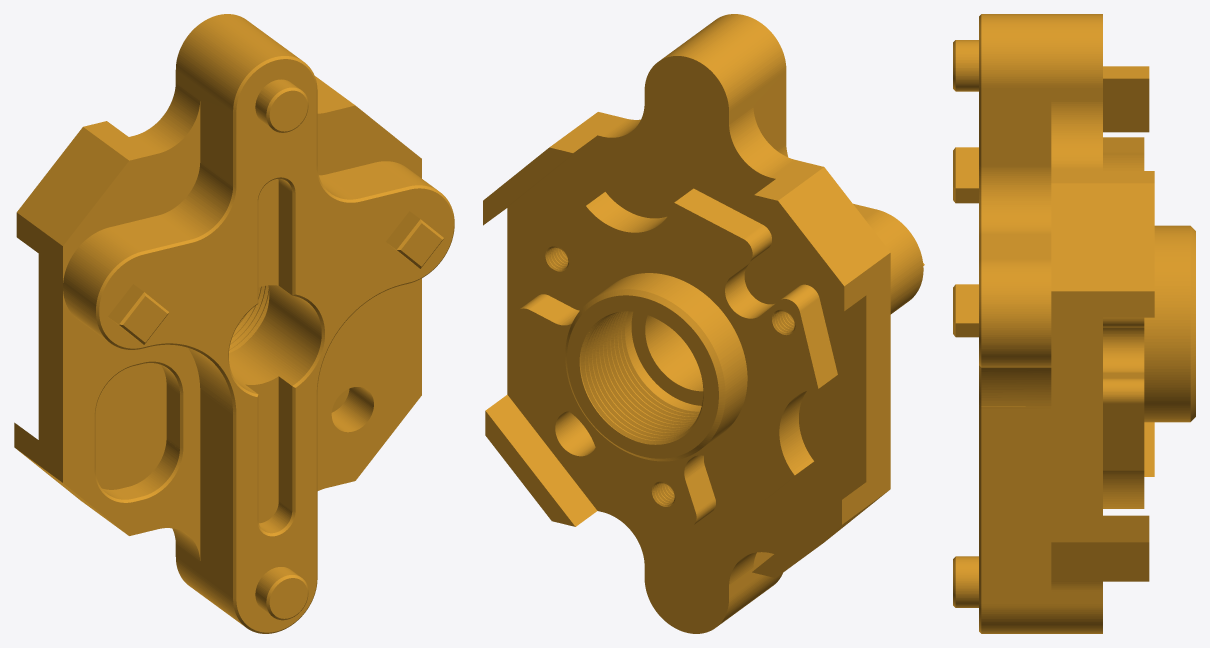
3 views of the same model, side by side, from view 1: azimuth 30°, elevation 25°; view 2: azimuth 150°, elevation 25°; view 3: azimuth 270°, elevation 25° (orthographic). The views are drawn at different scales.
Bounding box in the file's own units: 85 × 130 × 47.
